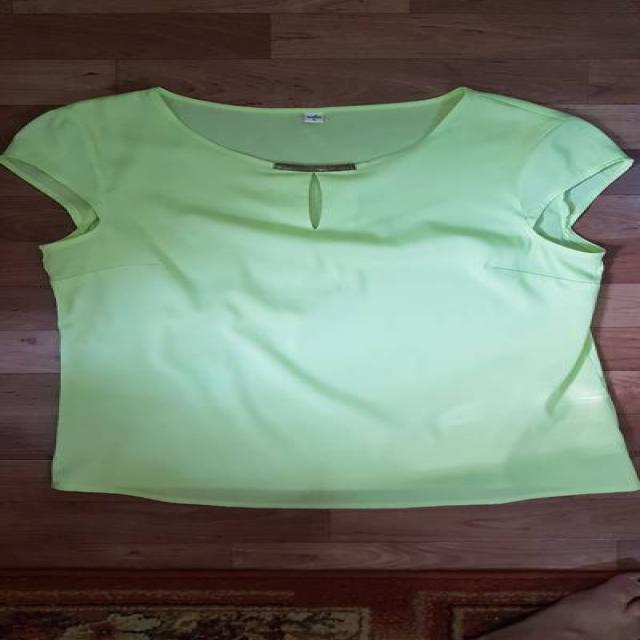Clothes -Biodegradable-: (0, 87, 640, 506)
